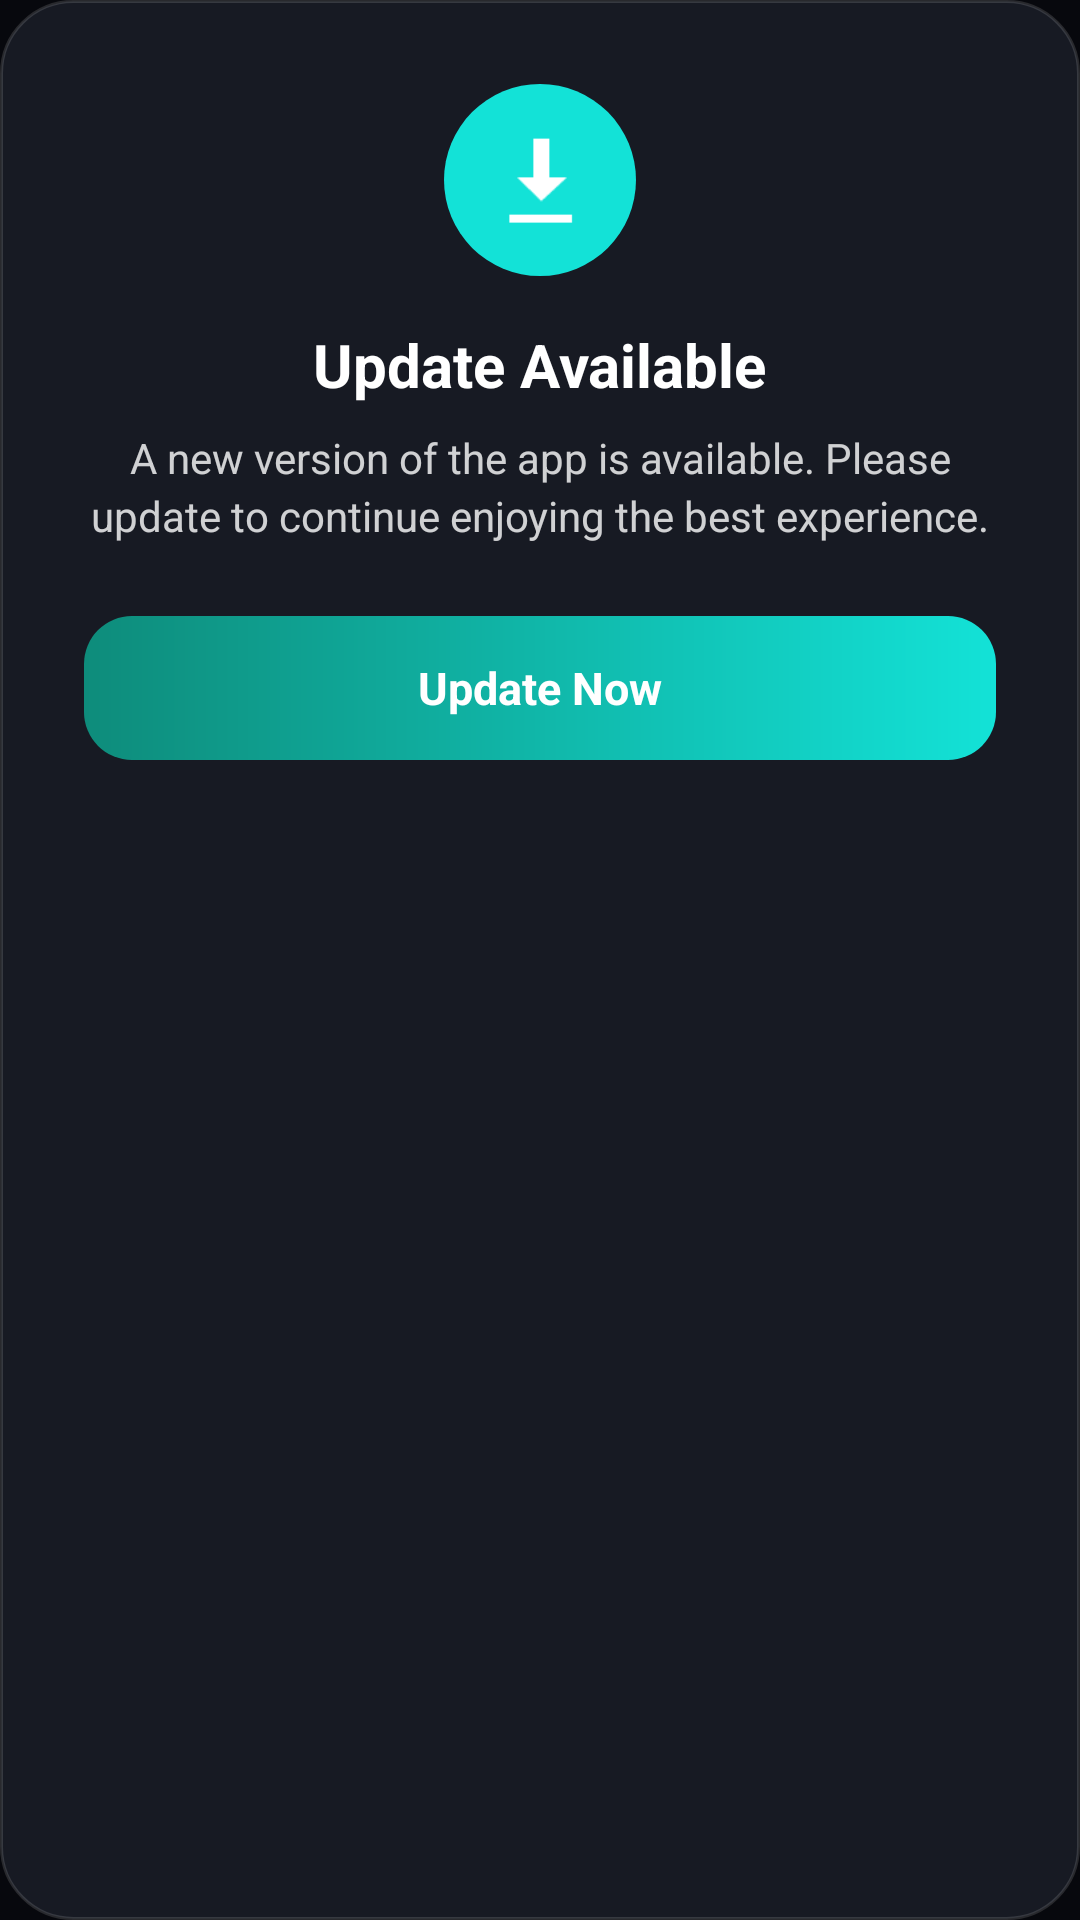

Icon click points for this 1080x1920 phone screenshot, format (x,y):
download: (541,180)
